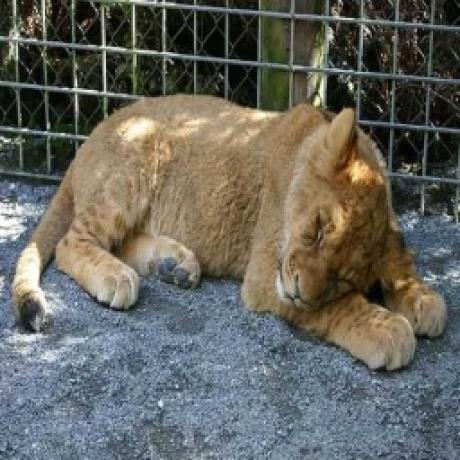Lion: (9, 89, 451, 377)
